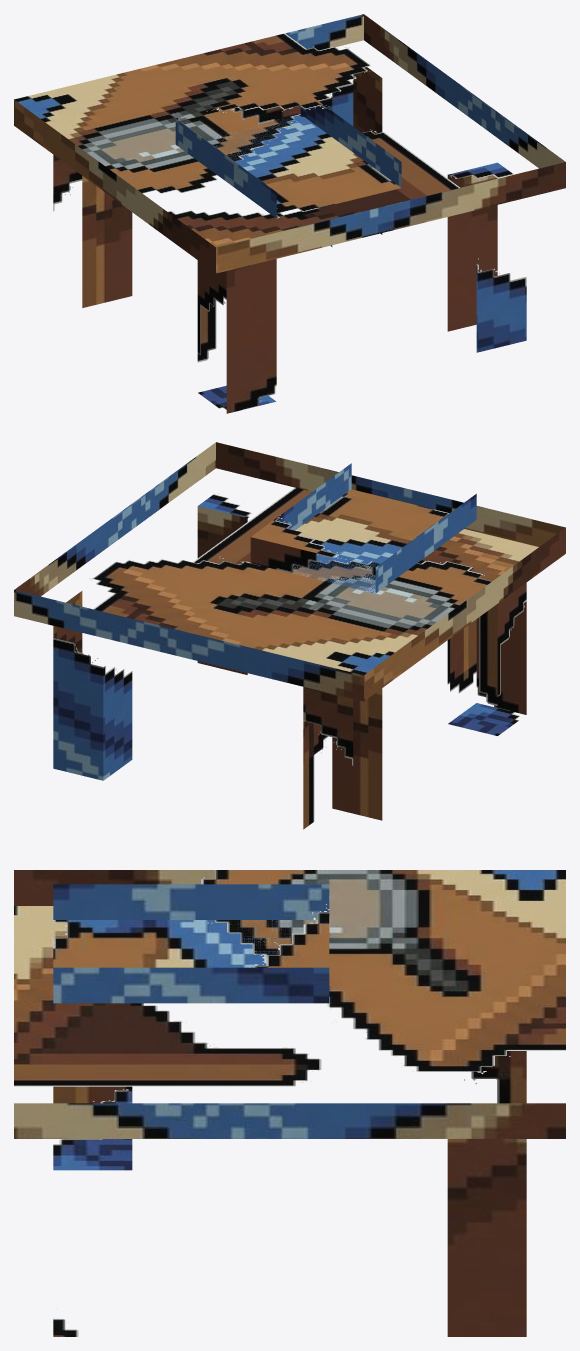
File: researcher_desk.obj
3 views of the same model, one above another, from view 1: azimuth 30°, elevation 25°; view 2: azimuth 150°, elevation 25°; view 3: azimuth 270°, elevation 25° (orthographic). The views are drawn at different scales.
Visible parts, largest first — view 1: cube; view 2: cube; view 3: cube.
Part boxes in pixels (x1,y1,x2,y2): cube: (14,14,565,413); cube: (14,442,565,829); cube: (14,870,565,1336).
Bounding box in the file's own units: 0.875 × 0.5 × 0.875.
